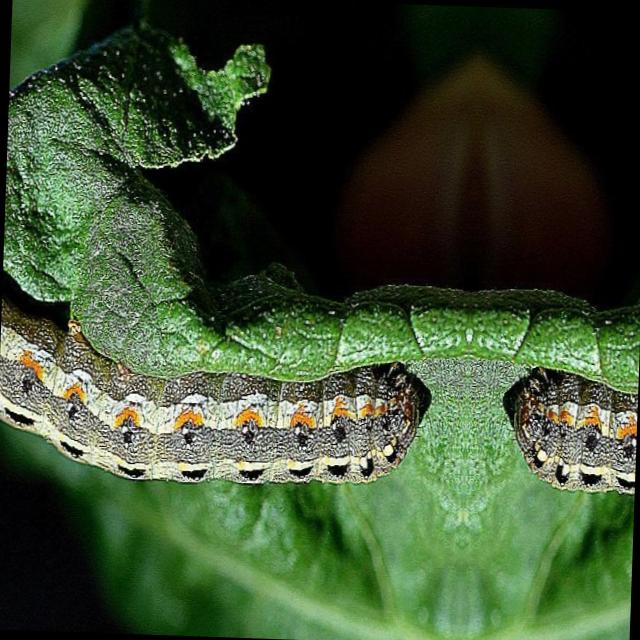Armyworm: (1, 277, 453, 516), (489, 337, 640, 544)
